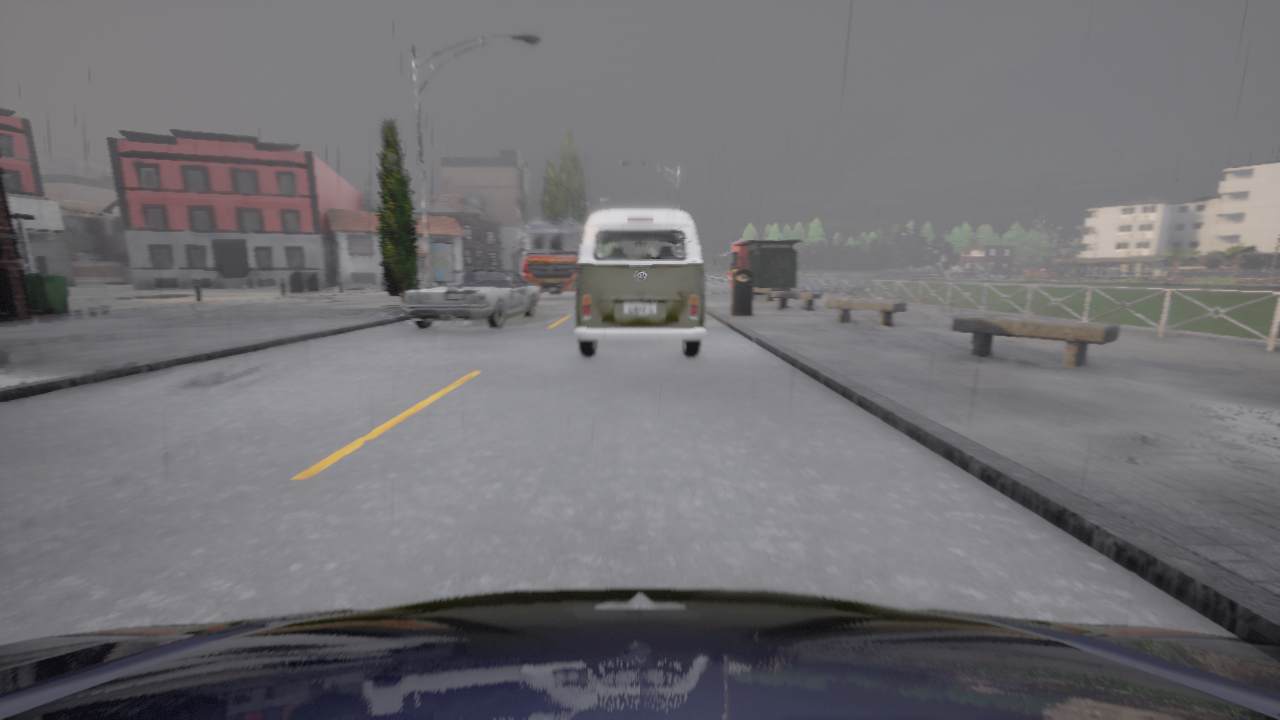cyclist: (0, 588, 1279, 719), (573, 209, 706, 357), (402, 270, 539, 328), (518, 219, 583, 293)
